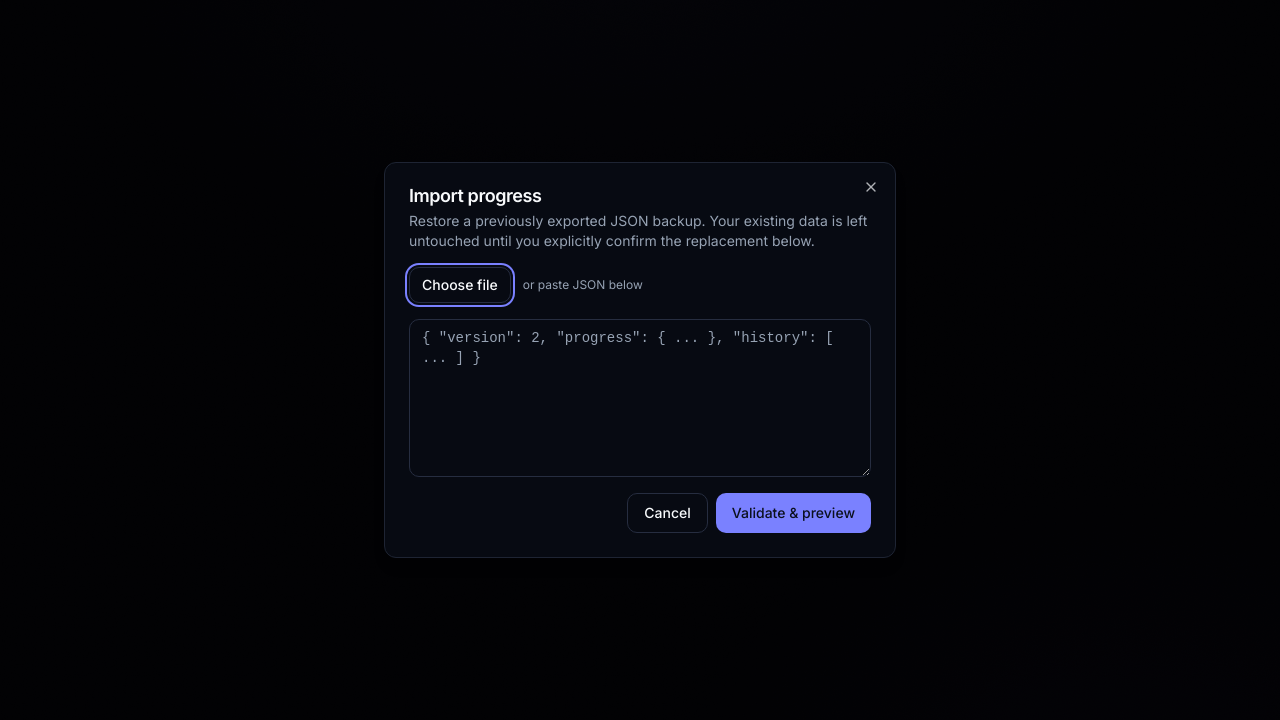
Scenario: ImportDialog › shows an error for malformed JSON
Click the text box named "exported quizlett json": click(640, 398) [409, 319, 871, 477]
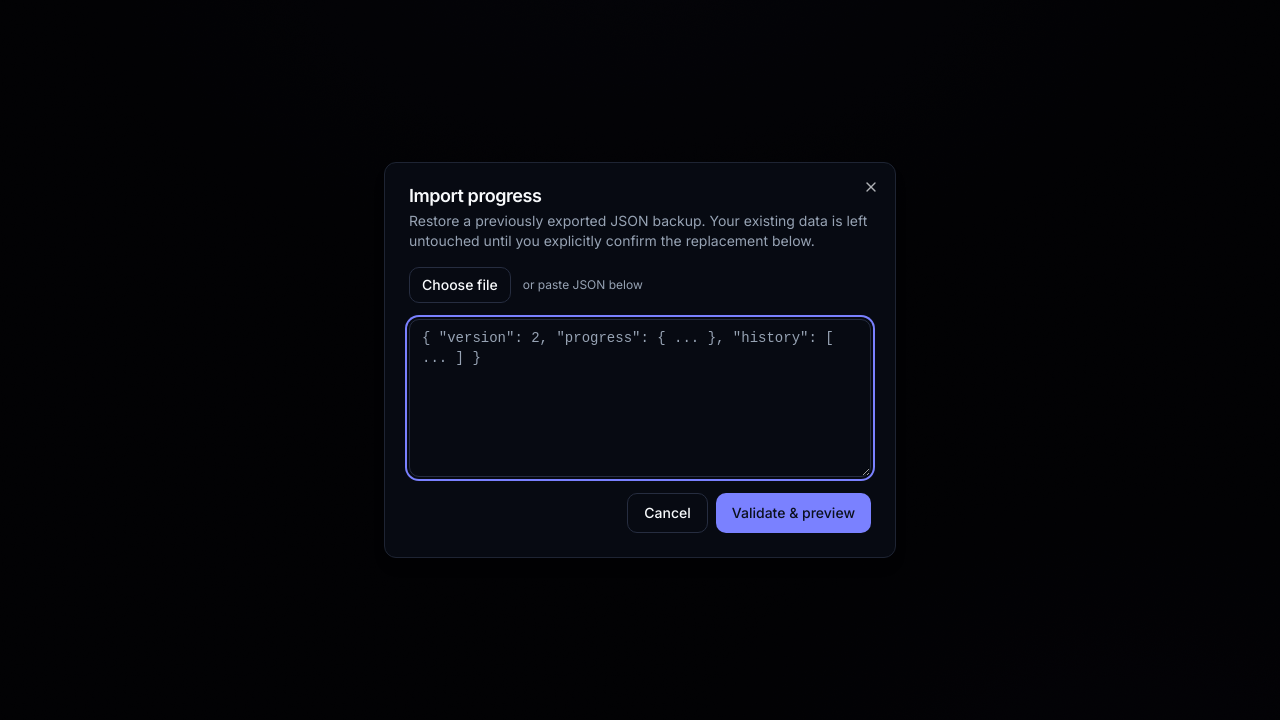
Type keys "{not json"
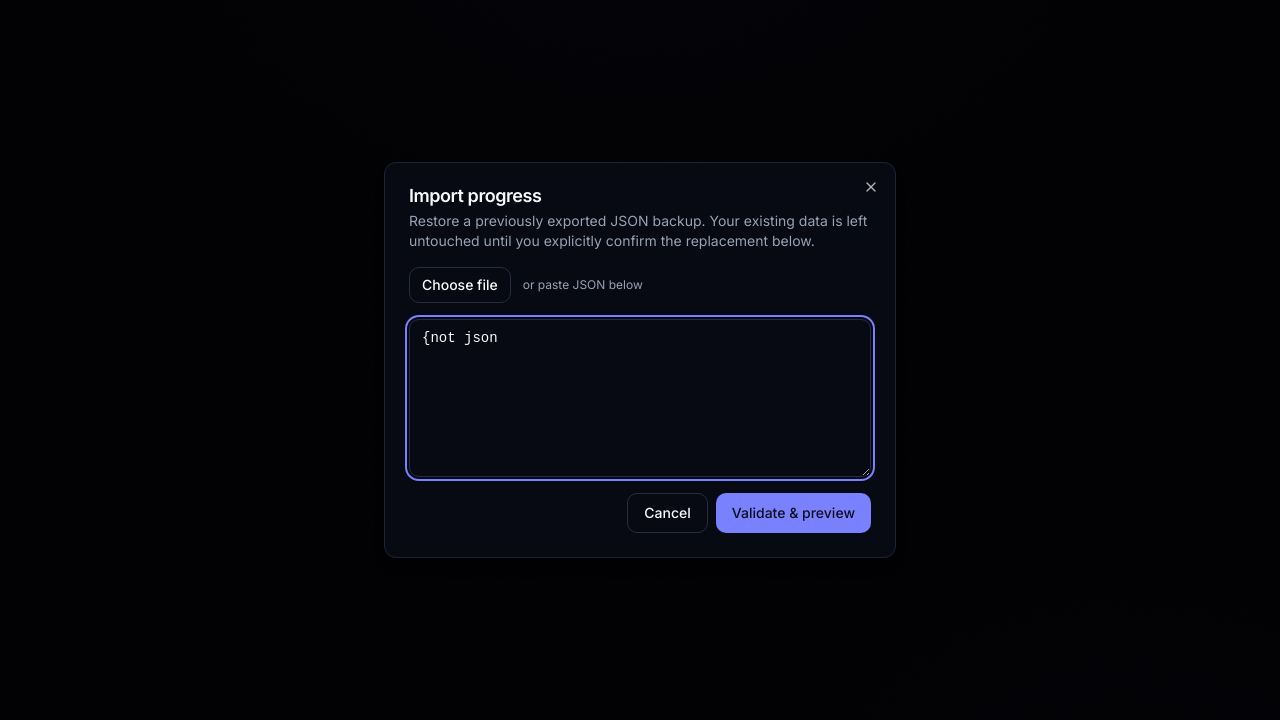
Click the button "Validate & preview": click(793, 513) [716, 493, 871, 533]
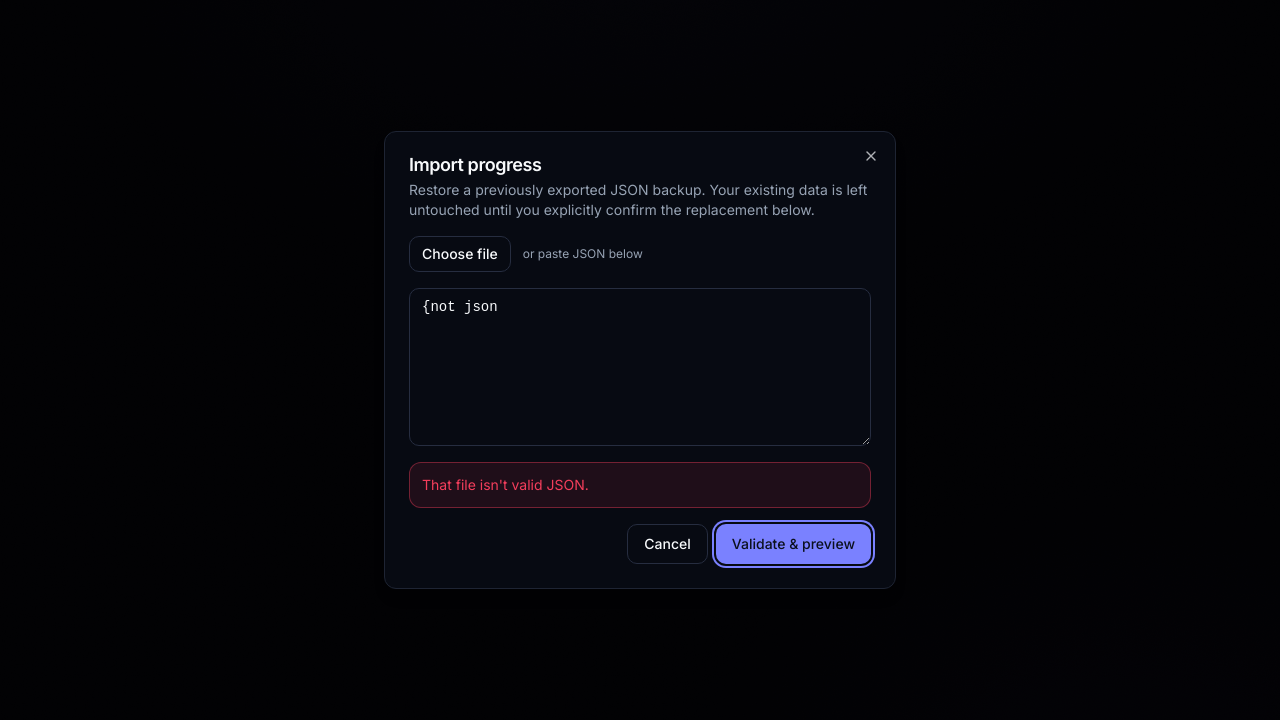
Now the message shows "valid JSON", box [422, 476, 589, 493]
